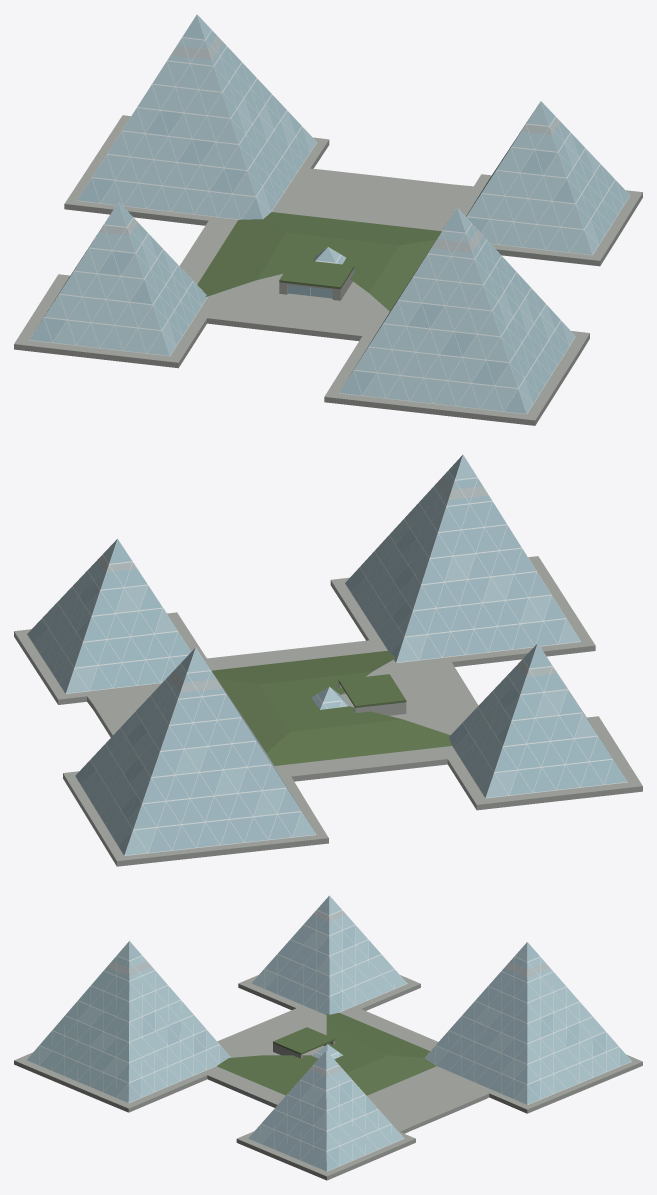
File: muttart-conservatory-far.glb
3 views of the same model, one above another, from view 1: azimuth 30°, elevation 25°; view 2: azimuth 150°, elevation 25°; view 3: azimuth 270°, elevation 25° (orthographic). The views are drawn at different scales.
Visible parts, largest first — view 1: muttart-conservatory-0-glass, muttart-conservatory-0-concrete, muttart-conservatory-0-glassShade, muttart-conservatory-0-frame, muttart-conservatory-0-roof, muttart-conservatory-0-vent; view 2: muttart-conservatory-0-glassShade, muttart-conservatory-0-glass, muttart-conservatory-0-concrete, muttart-conservatory-0-roof, muttart-conservatory-0-frame, muttart-conservatory-0-vent; view 3: muttart-conservatory-0-glassShade, muttart-conservatory-0-glass, muttart-conservatory-0-concrete, muttart-conservatory-0-frame, muttart-conservatory-0-roof, muttart-conservatory-0-vent.
Boxes of the visible parts, bbox=[...] form: muttart-conservatory-0-glass: bbox=[44, 15, 599, 413]; muttart-conservatory-0-concrete: bbox=[14, 115, 642, 425]; muttart-conservatory-0-glassShade: bbox=[30, 15, 629, 413]; muttart-conservatory-0-frame: bbox=[29, 14, 629, 414]; muttart-conservatory-0-roof: bbox=[197, 212, 441, 311]; muttart-conservatory-0-vent: bbox=[99, 36, 560, 252]; muttart-conservatory-0-glassShade: bbox=[27, 455, 626, 854]; muttart-conservatory-0-glass: bbox=[34, 455, 615, 855]; muttart-conservatory-0-concrete: bbox=[14, 556, 642, 866]; muttart-conservatory-0-roof: bbox=[212, 650, 451, 765]; muttart-conservatory-0-frame: bbox=[27, 454, 627, 855]; muttart-conservatory-0-vent: bbox=[98, 476, 556, 692]; muttart-conservatory-0-glassShade: bbox=[39, 896, 631, 1170]; muttart-conservatory-0-glass: bbox=[27, 896, 618, 1165]; muttart-conservatory-0-concrete: bbox=[14, 975, 642, 1180]; muttart-conservatory-0-frame: bbox=[26, 895, 631, 1171]; muttart-conservatory-0-roof: bbox=[217, 1013, 436, 1095]; muttart-conservatory-0-vent: bbox=[107, 910, 549, 1076].
Bounding box in the file's own units: 96.67 × 24 × 111.
